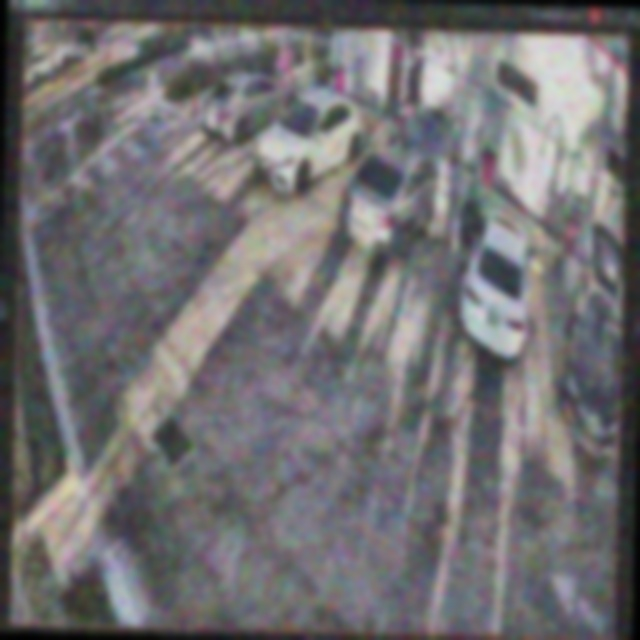Car: (340, 109, 443, 255), (456, 202, 537, 364), (252, 90, 367, 193), (202, 73, 297, 143)
